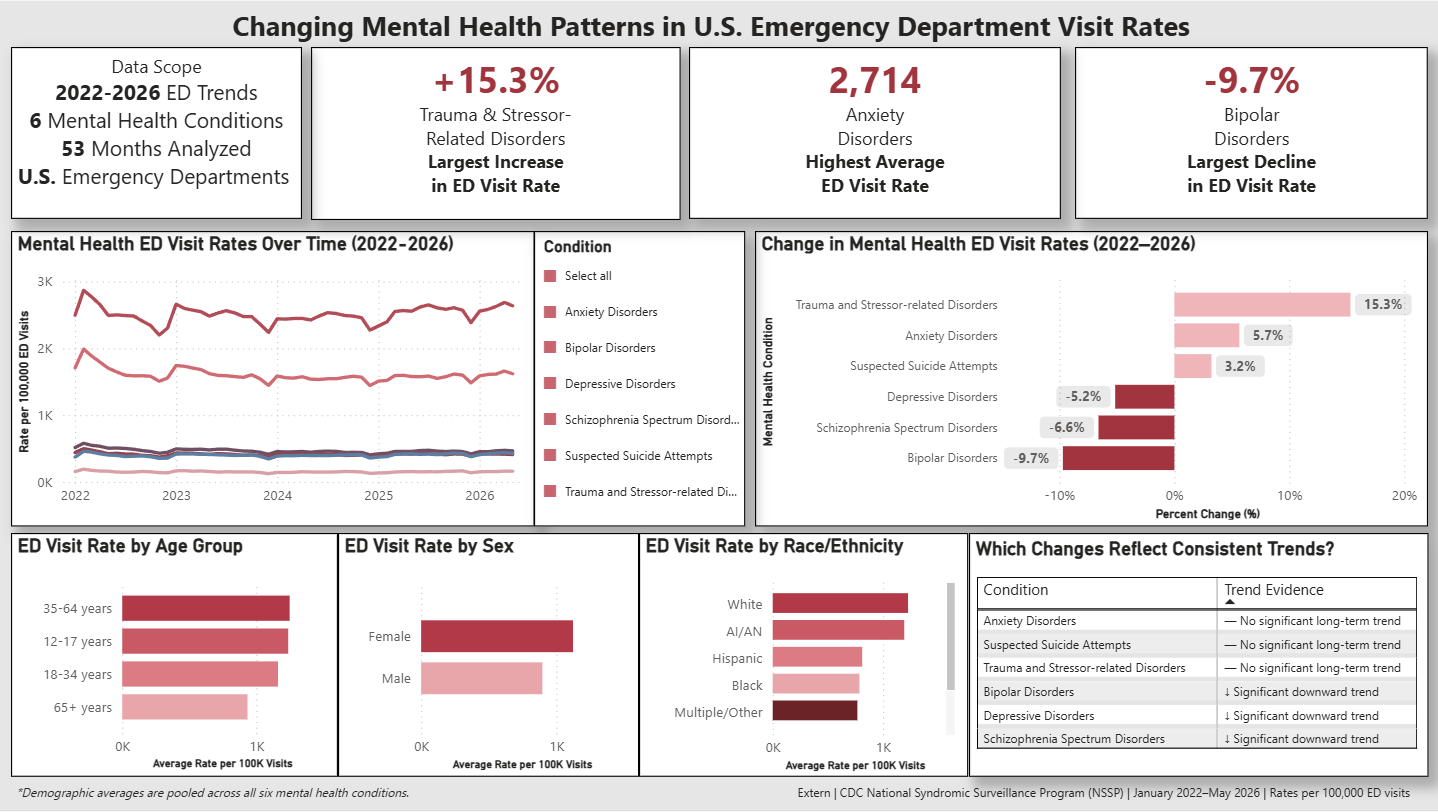

What the dashboard file says about the page in this screenshot:
{"tool":"powerbi","page":{"name":"Page 1","canvas":[1280,720],"ordinal":0},"visuals":[{"type":"textbox","box":[202.2,0,875.6,48.9],"z":0},{"type":"barChart","title":"Change in Mental Health ED Visit Rates (2022–2026)","fields":{"Category":["growth_summary.condition"],"Y":["Sum(growth_summary.Percent Change)"]},"box":[672.2,204.4,598.9,263.3],"z":1000},{"type":"lineChart","title":"Mental Health ED Visit Rates Over Time (2022-2026)","fields":{"Category":["overall_data.month_end"],"Series":["overall_data.condition"],"Y":["Sum(overall_data.rate_per_100000_visits)"]},"box":[10,204.4,465.6,263.3],"z":2000},{"type":"slicer","fields":{"Values":["overall_data.condition"]},"box":[475.6,204.4,188,263.3],"z":3000},{"type":"textbox","box":[276.7,41.1,328.8,153.8],"z":4000},{"type":"textbox","box":[956.7,41.1,314.4,153.3],"z":5000},{"type":"textbox","box":[613.3,41.1,331.1,153.3],"z":6000},{"type":"textbox","box":[10,41.1,258.9,153.3],"z":7000},{"type":"tableEx","title":"Which Changes Reflect Consistent Trends?","fields":{"Values":["regression_results.Condition","regression_results.Trend Evidence"]},"box":[862.2,473.3,408.7,216.7],"z":8000},{"type":"barChart","title":"ED Visit Rate by Age Group","fields":{"Category":["age_data.demographics_values"],"Y":["Avg(age_data.rate_per_100000_visits)"]},"box":[10,473.3,291.1,216.7],"z":8001},{"type":"barChart","title":"ED Visit Rate by Sex","fields":{"Category":["sex_data.demographics_values"],"Y":["Avg(sex_data.rate_per_100000_visits)"]},"box":[301.1,473.3,267.5,216.7],"z":8002},{"type":"barChart","title":"ED Visit Rate by Race/Ethnicity","fields":{"Category":["race_data.demographics_values"],"Y":["Avg(race_data.rate_per_100000_visits)"]},"box":[568.9,473.3,293.3,216.7],"z":8003},{"type":"textbox","box":[704.4,690,566.7,30],"z":8004},{"type":"textbox","box":[10,690,370,30],"z":8005}]}

Visuals, with their boxes in screenshot pixels (x1, y1, x2, y2), scaled from the page's 1280x720 canvas onto the 1438x812 screenshot:
textbox: l=227, t=0, r=1211, b=55
"Change in Mental Health ED Visit Rates (2022–2026)" barChart: l=755, t=231, r=1428, b=527
"Mental Health ED Visit Rates Over Time (2022-2026)" lineChart: l=11, t=231, r=534, b=527
slicer - overall_data.condition: l=534, t=231, r=746, b=527
textbox: l=311, t=46, r=680, b=220
textbox: l=1075, t=46, r=1428, b=219
textbox: l=689, t=46, r=1061, b=219
textbox: l=11, t=46, r=302, b=219
"Which Changes Reflect Consistent Trends?" tableEx: l=969, t=534, r=1428, b=778
"ED Visit Rate by Age Group" barChart: l=11, t=534, r=338, b=778
"ED Visit Rate by Sex" barChart: l=338, t=534, r=639, b=778
"ED Visit Rate by Race/Ethnicity" barChart: l=639, t=534, r=969, b=778
textbox: l=791, t=778, r=1428, b=811
textbox: l=11, t=778, r=427, b=811
